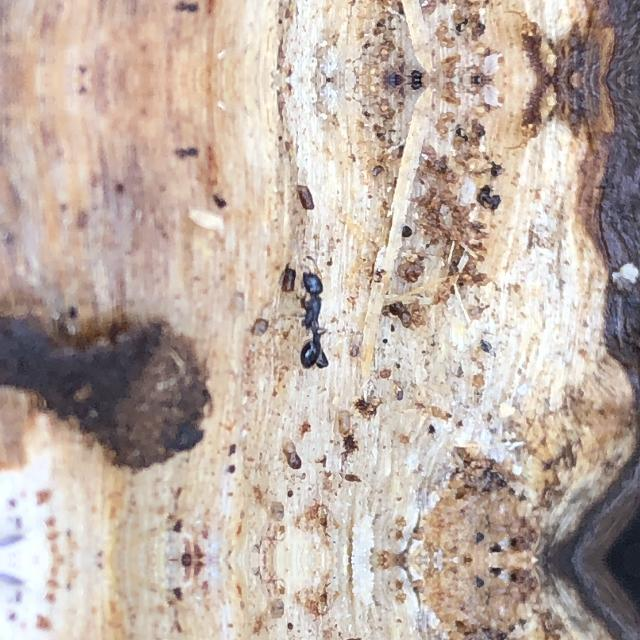Temnothorax: (273, 260, 347, 378)
